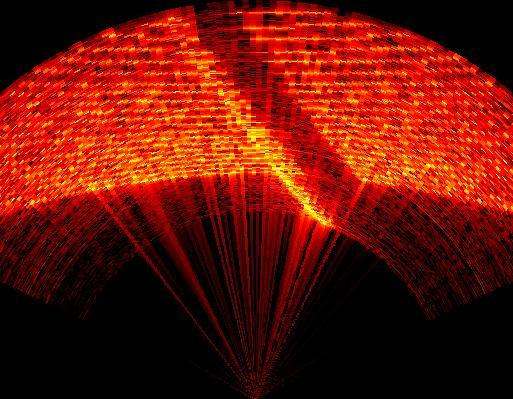pipe: (186, 4, 361, 221)
